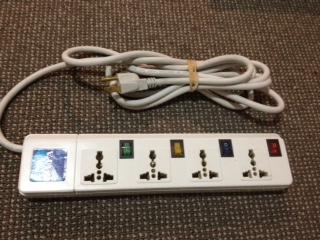Three_eye_plug: (8, 115, 299, 208)
